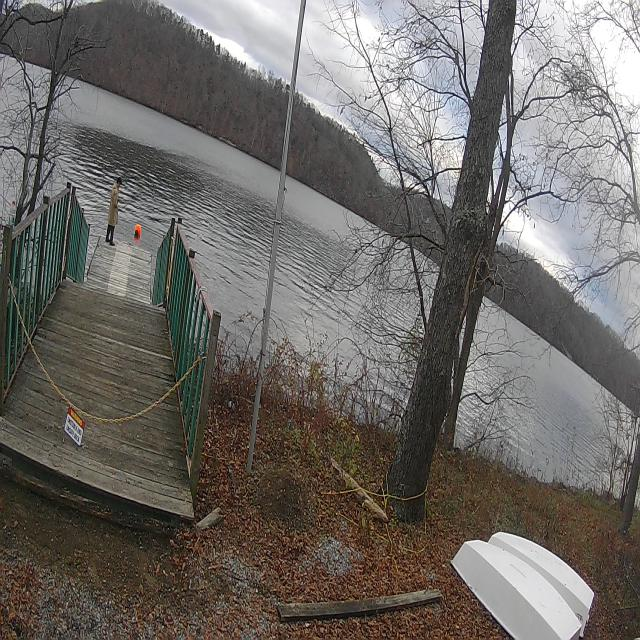Buoy: (133, 223, 142, 242)
